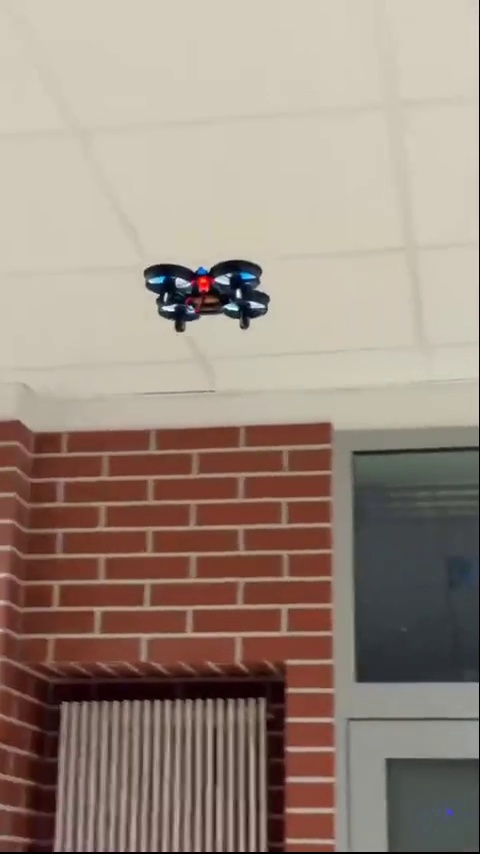drone: (145, 260, 271, 331)
